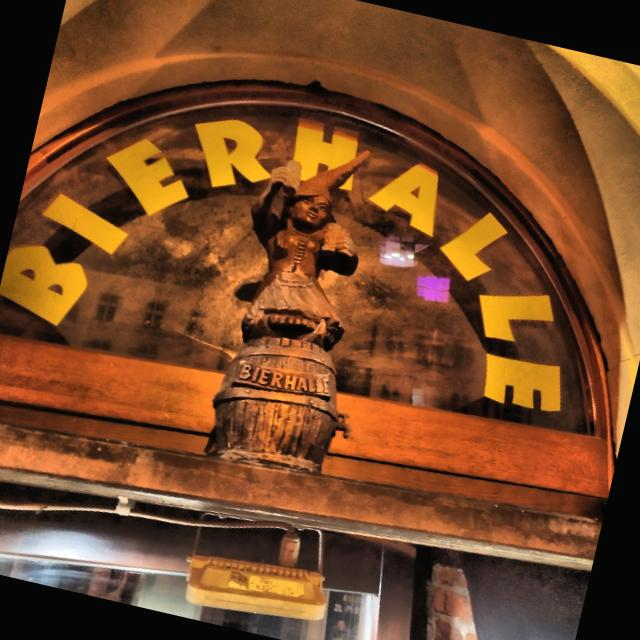Bawarka: (213, 151, 368, 472)
